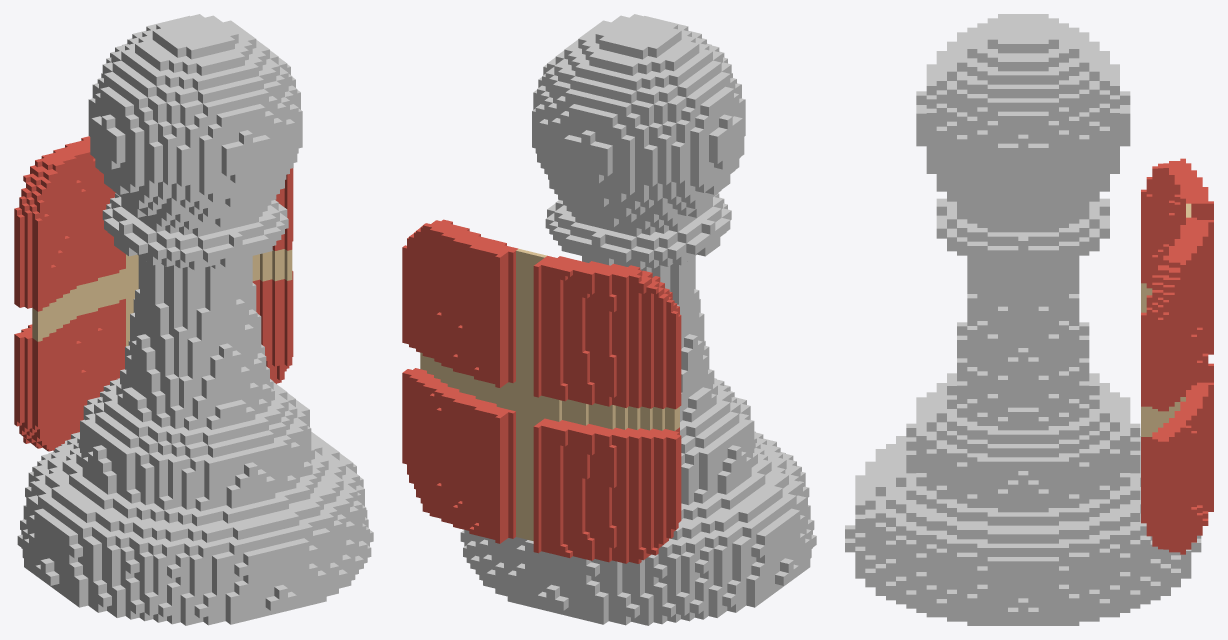
File: phalanx.fbx
3 views of the same model, side by side, from view 1: azimuth 30°, elevation 25°; view 2: azimuth 150°, elevation 25°; view 3: azimuth 270°, elevation 25° (orthographic).
Visible parts, largest first — view 1: Pawn, Shield.001; view 2: Pawn, Shield.001; view 3: Pawn, Shield.001.
Part boxes in pixels (bbox=[...]): Pawn: bbox=[17, 14, 373, 625]; Shield.001: bbox=[14, 136, 293, 451]; Pawn: bbox=[460, 14, 816, 625]; Shield.001: bbox=[402, 219, 681, 563]; Pawn: bbox=[845, 14, 1201, 625]; Shield.001: bbox=[1141, 158, 1213, 554].
Size of the model in its own units: 135 by 211 by 134.
